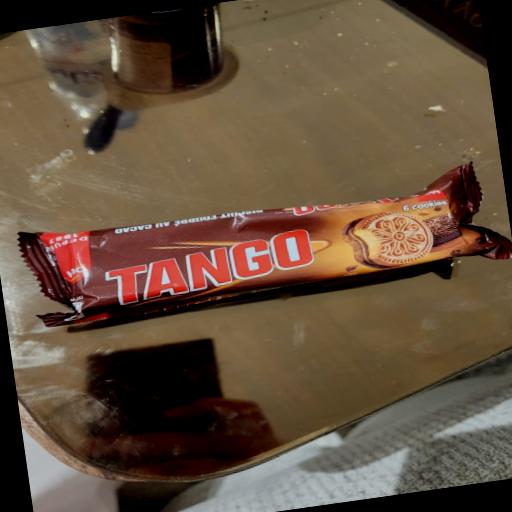tango: (9, 129, 512, 388)
